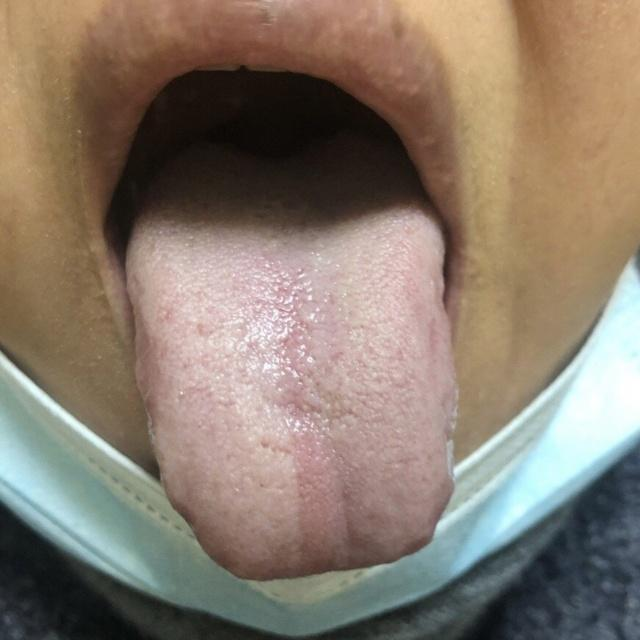baitaishe: (125, 165, 459, 580)
